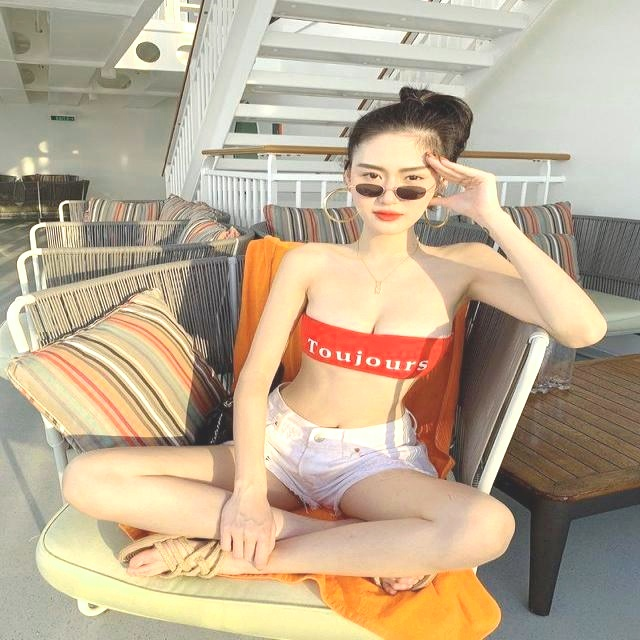Crop_Top: (283, 314, 452, 434)
Shorts: (61, 394, 518, 578), (444, 240, 500, 289)
Sleeveless: (276, 241, 324, 284)
low_neckline: (295, 241, 454, 379)
